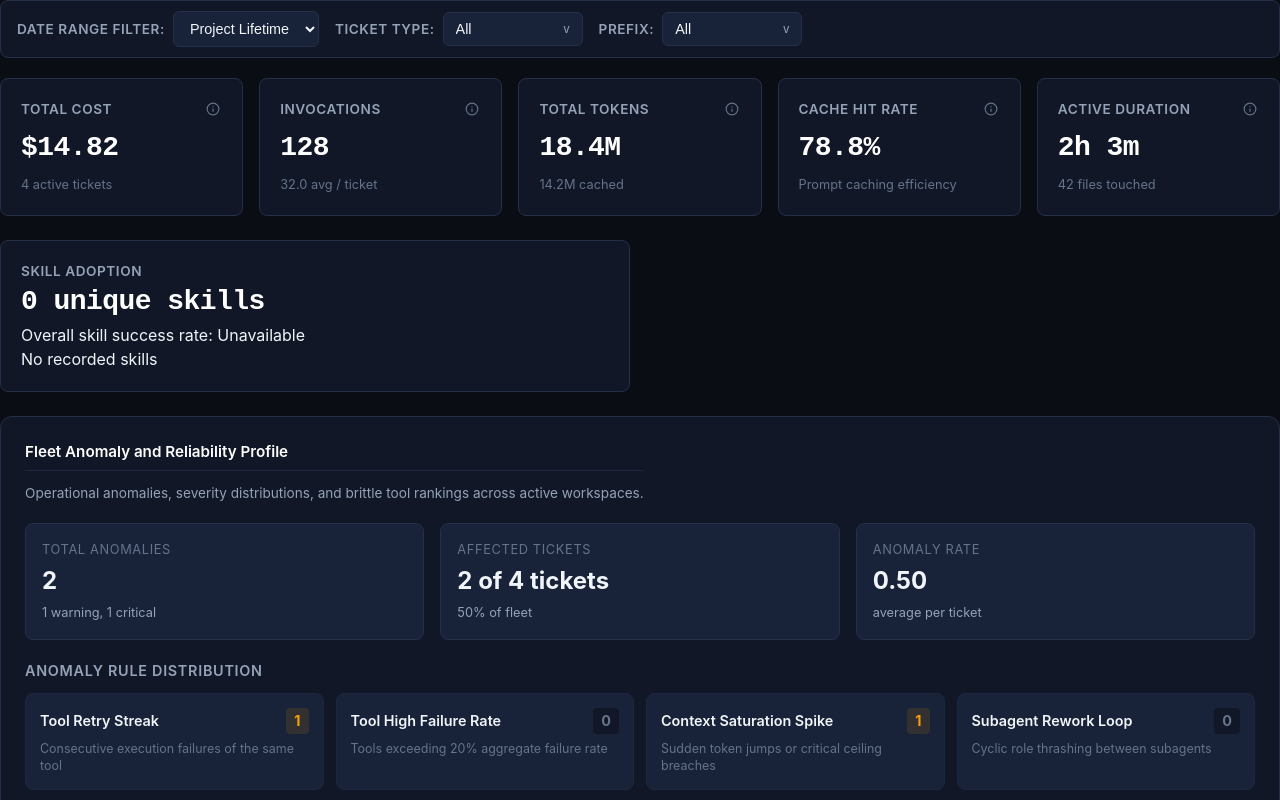
Scenario: FleetOverview View Component › Adversarial & Boundary Scenarios › renders configured prefixes in prefix dropdown even when no matching workspaces exist
Expected: the text "Total Cost" is shown, [21,99,112,119]
Click the dropdown named "Prefix selector": (732, 29) [662,12,802,46]
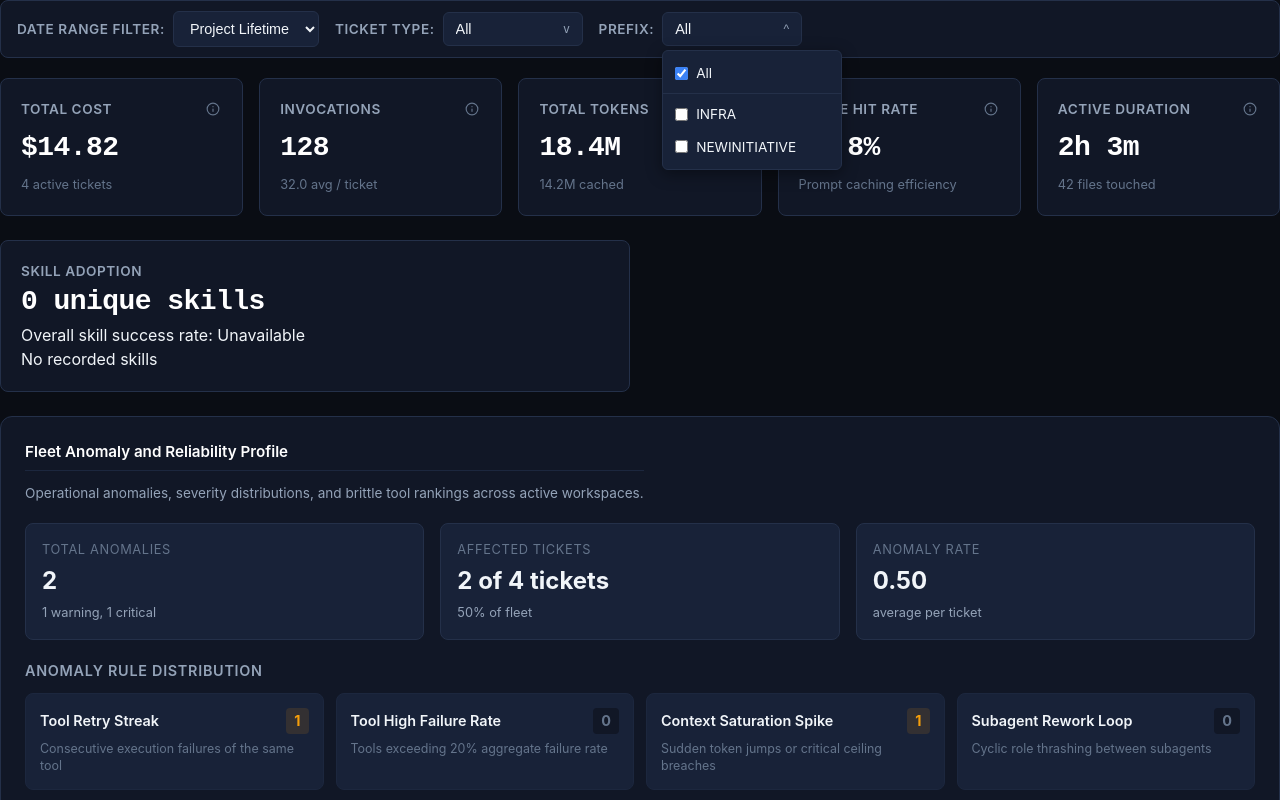
Result: the checkbox labelled "NEWINITIATIVE" is shown at [675,140,688,154]
Result: the checkbox labelled "INFRA" is shown at [675,108,688,121]
